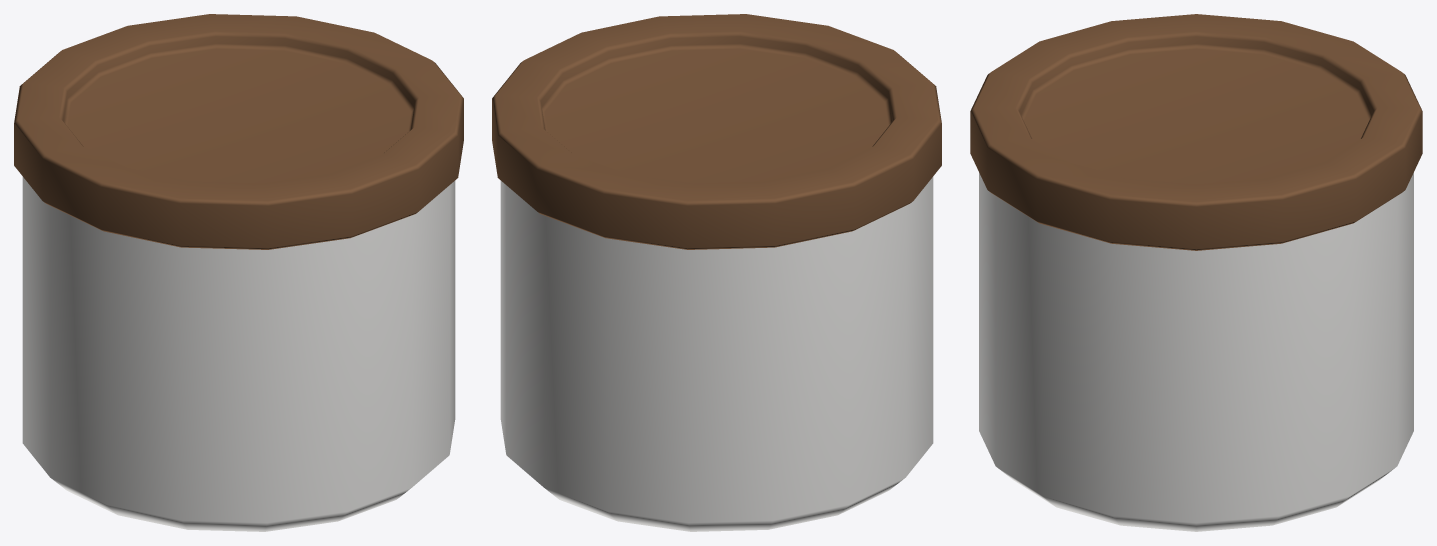
Rendered from Jar_9.glb.
3 views of the same model, side by side, from view 1: azimuth 30°, elevation 25°; view 2: azimuth 150°, elevation 25°; view 3: azimuth 270°, elevation 25° (orthographic).
Visible parts, largest first — view 1: Jar_9; view 2: Jar_9; view 3: Jar_9.
Boxes of the visible parts, bbox=[...] form: Jar_9: bbox=[14, 14, 463, 531]; Jar_9: bbox=[492, 14, 941, 531]; Jar_9: bbox=[970, 14, 1422, 531].
Bounding box in the file's own units: 0.2474 × 0.2053 × 0.2474.
2 materials, 2 textured.
